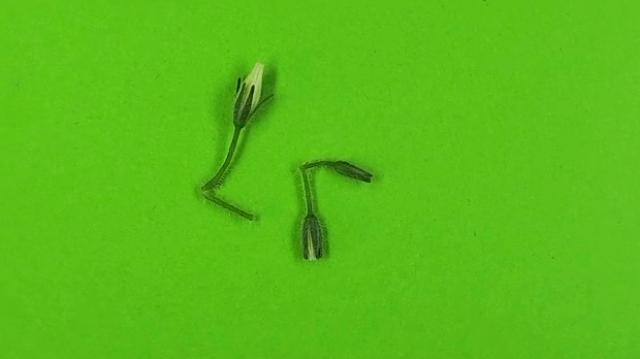Flower Bud: (233, 61, 269, 128), (301, 216, 324, 261), (326, 161, 373, 183)
